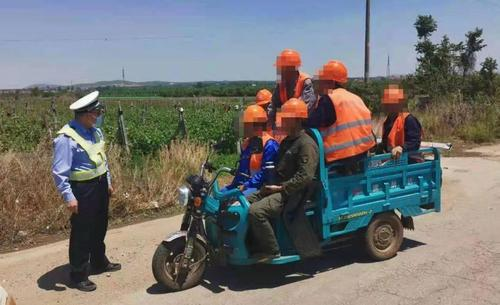driver: (268, 100, 320, 263)
overloading: (148, 68, 454, 276)
passenger: (265, 40, 334, 128), (313, 62, 370, 168), (371, 75, 422, 163), (225, 106, 271, 188)
